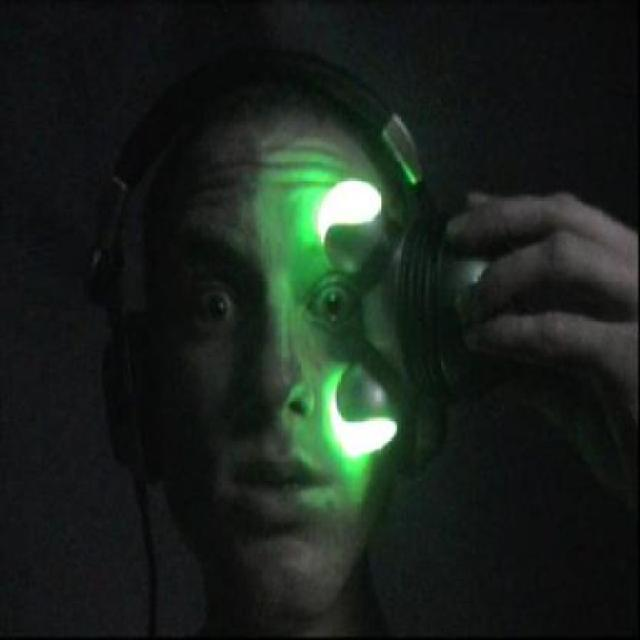earphone: (82, 0, 520, 460)
